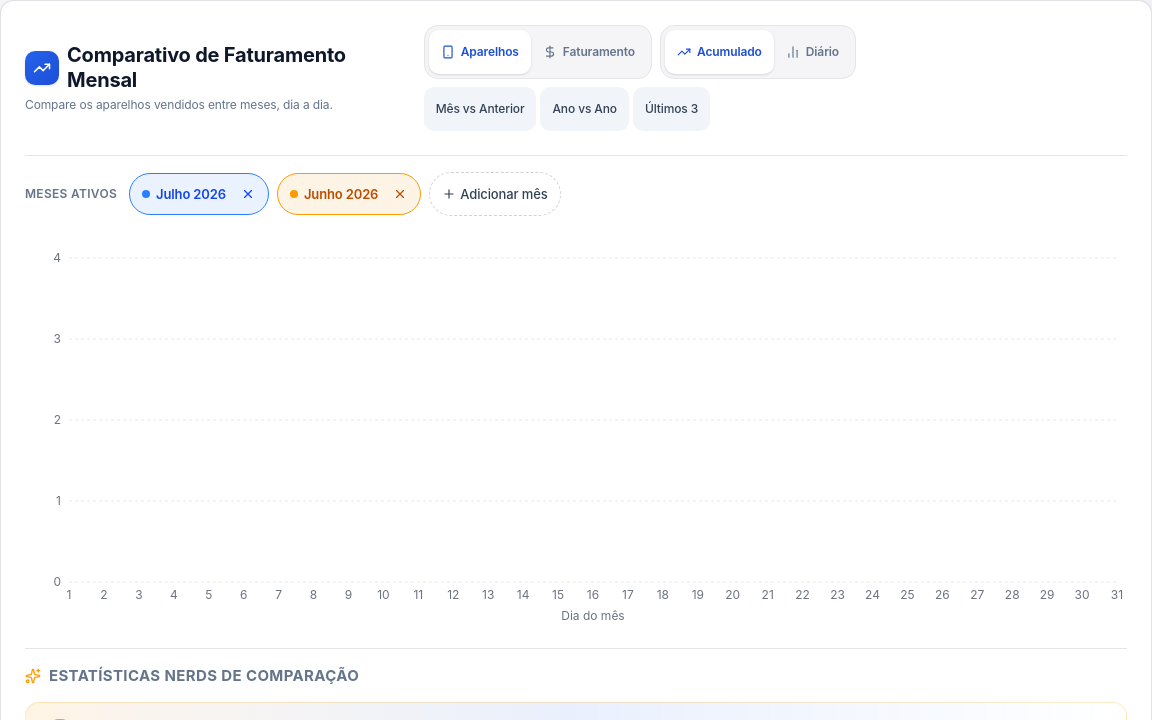
Test case: MonthlyRevenueComparisonChart › picks the peak day by the selected metric
Step 1. Click the button "Faturamento" → (589, 52), box left=531, top=30, right=647, bottom=74
(page scrolled)
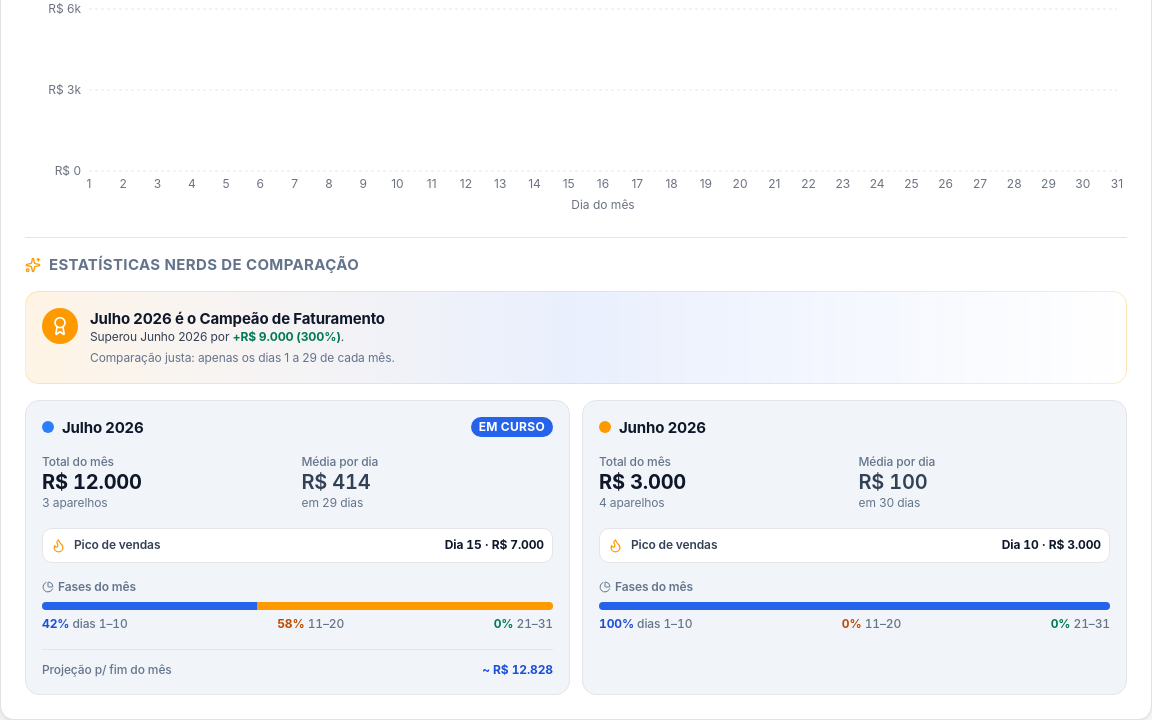
Result: the text "Dia 15 · R$ 7.000" is shown at left=445, top=537, right=544, bottom=554
